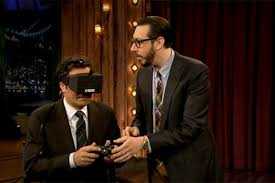oculus: (63, 72, 106, 97)
